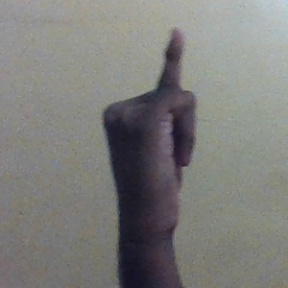I: (101, 26, 205, 225)
